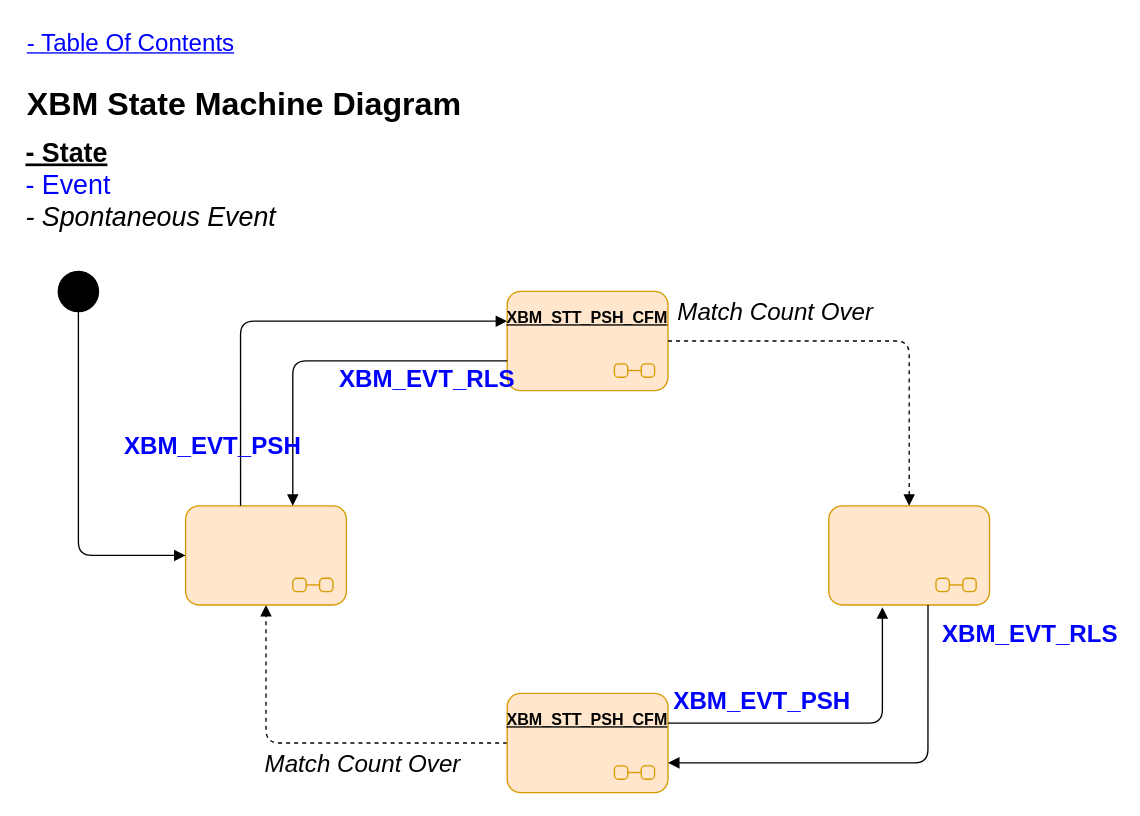
Image size: 1140x816. Some labels were removed from this diagram. Each missing label, with the centre of its shape:
XBM_STT_PSH: point (908, 555)
XBM_STT_RLS: point (265, 555)
